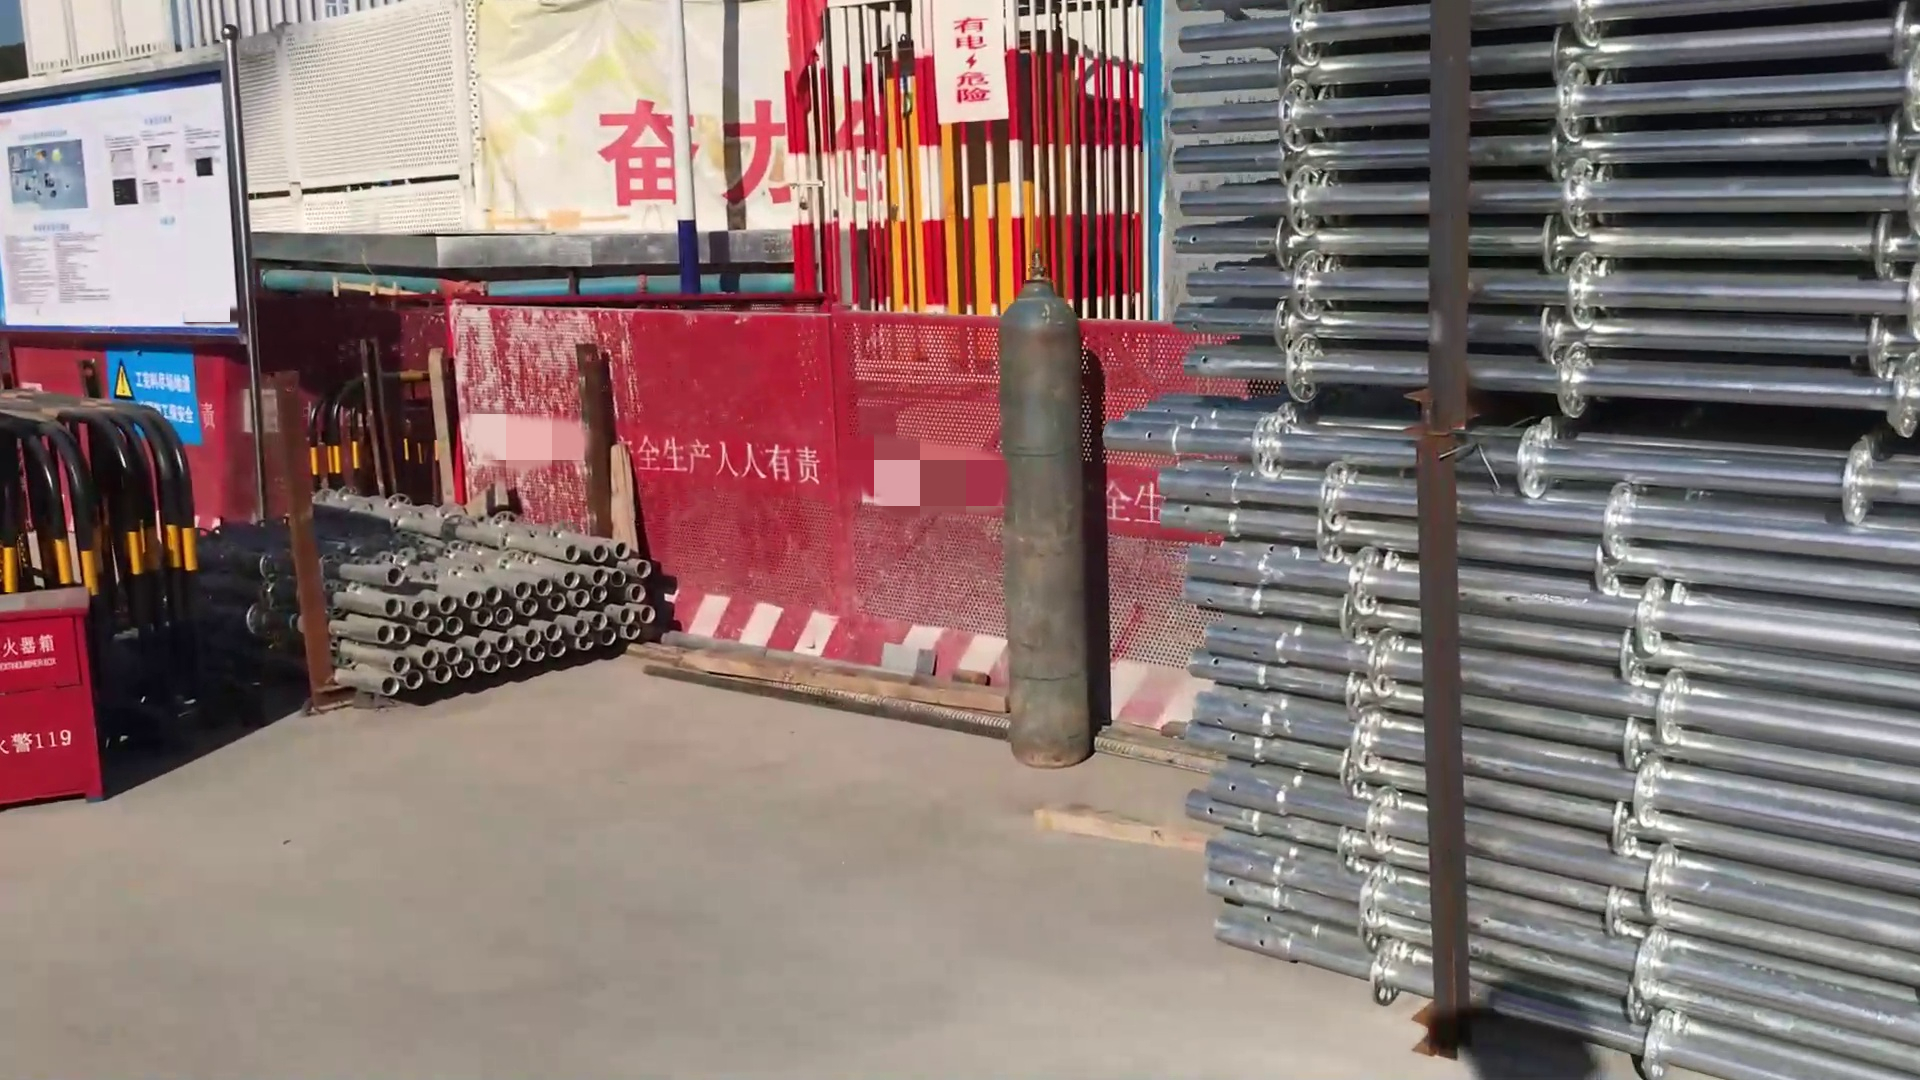fence: (451, 305, 1006, 707), (790, 12, 1149, 299), (5, 384, 211, 713), (297, 363, 436, 483)
scaffold: (1174, 4, 1905, 1073), (291, 485, 671, 704)
slogan: (632, 433, 824, 488), (109, 351, 199, 442), (939, 11, 1001, 119)
